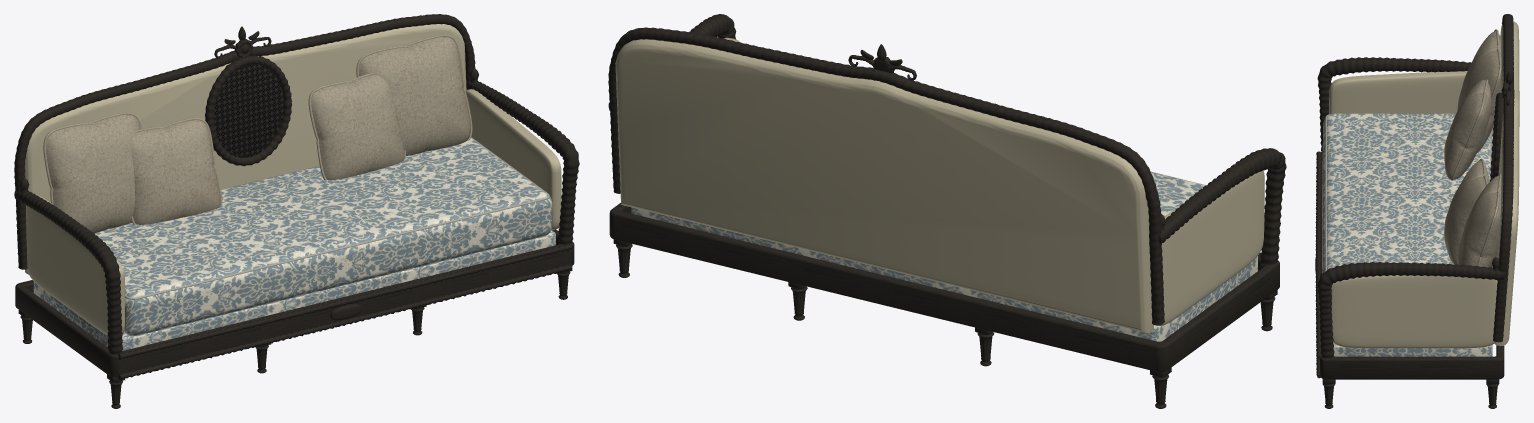
3 views of the same model, side by side, from view 1: azimuth 30°, elevation 25°; view 2: azimuth 150°, elevation 25°; view 3: azimuth 270°, elevation 25° (orthographic). The views are drawn at different scales.
Bounding box in the file's own units: 2.19 × 1.13 × 0.8872.
Materials: 7 (7 with a texture image).
